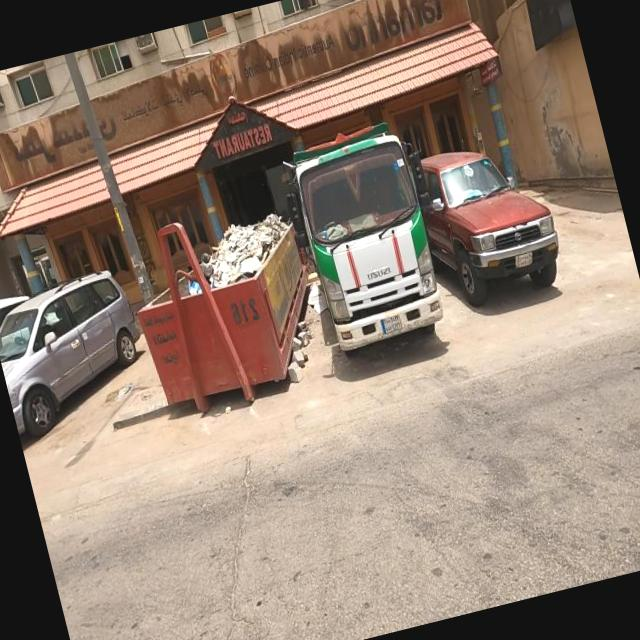debris: (0, 0, 594, 253), (112, 146, 336, 373), (246, 286, 352, 412), (283, 250, 352, 351), (92, 350, 160, 432)
